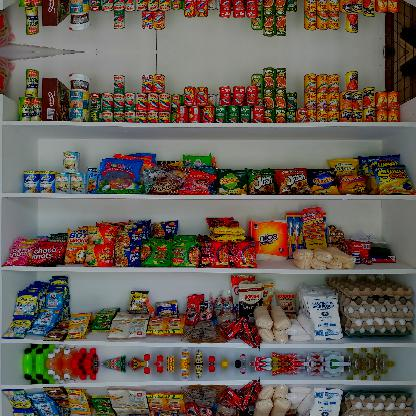Koko-Krunch: (41, 78, 69, 120), (41, 0, 70, 27)
